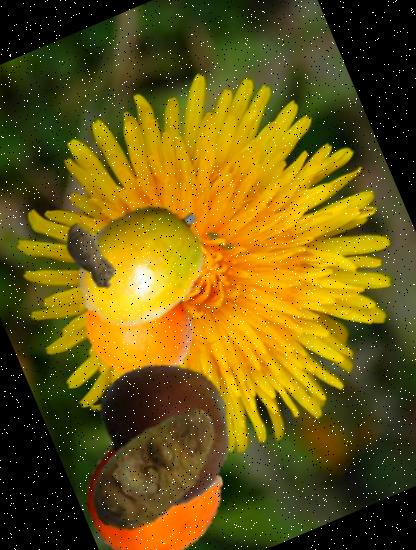Apricot: (64, 401, 245, 550)
Ginger: (57, 370, 254, 550), (41, 208, 138, 306)
Lemon: (66, 255, 212, 400)
Maracuja: (50, 172, 235, 357)
Nut: (78, 333, 266, 520)
